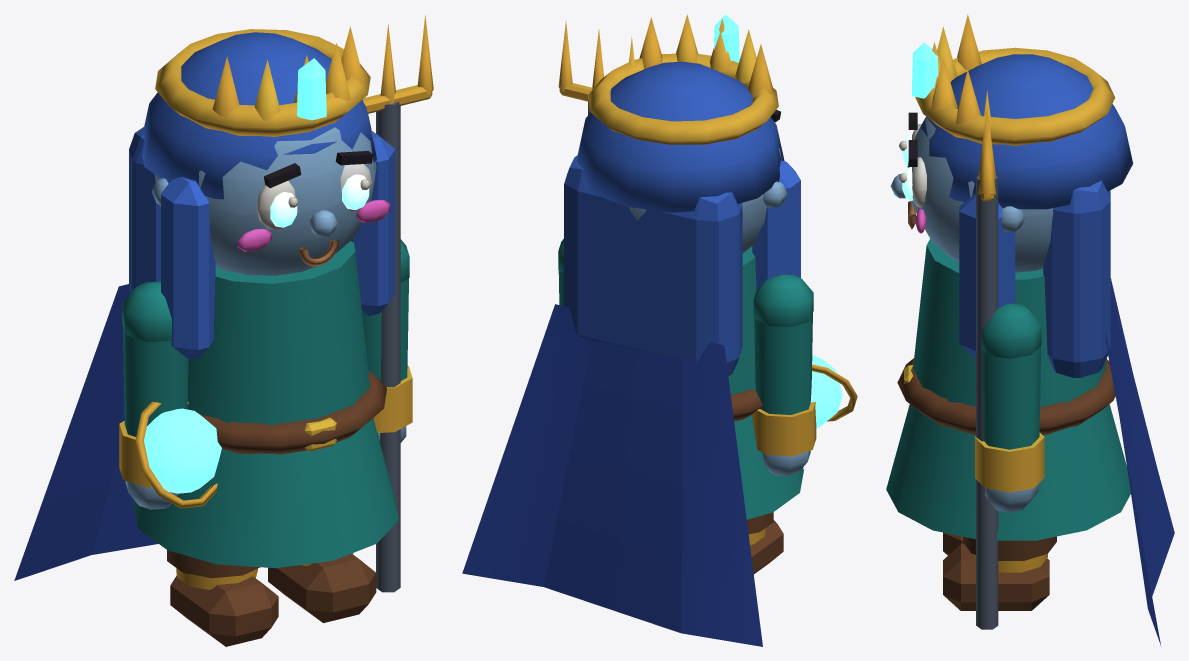
File: hero_abyss.glb
3 renders of one model, left to right at view 1: azimuth 30°, elevation 25°; view 2: azimuth 150°, elevation 25°; view 3: azimuth 270°, elevation 25°, orthographic. The views are drawn at different scales.
Visible parts, largest first — view 1: body_t0_palette, armr_t0_palette, arml_t0_palette, legl_t0_palette, arml_t0_crystal_teal, legr_t0_palette, body_t0_crystal, body_t0_glow_teal; view 2: body_t0_palette, arml_t0_palette, armr_t0_palette, legl_t0_palette, arml_t0_crystal_teal, body_t0_crystal; view 3: body_t0_palette, armr_t0_palette, legr_t0_palette, body_t0_crystal, body_t0_glow_teal.
Part boxes in pixels (box(x1,y1,x2,y2)): body_t0_palette: box(14, 26, 398, 580); armr_t0_palette: box(362, 15, 433, 592); arml_t0_palette: box(119, 281, 217, 509); legl_t0_palette: box(167, 550, 278, 646); arml_t0_crystal_teal: box(144, 408, 221, 493); legr_t0_palette: box(268, 553, 376, 622); body_t0_crystal: box(297, 58, 326, 120); body_t0_glow_teal: box(270, 174, 369, 227); body_t0_palette: box(462, 14, 803, 646); arml_t0_palette: box(752, 274, 857, 476); armr_t0_palette: box(558, 21, 634, 305); legl_t0_palette: box(747, 512, 783, 574); arml_t0_crystal_teal: box(810, 355, 842, 428); body_t0_crystal: box(714, 14, 739, 62); body_t0_palette: box(886, 14, 1174, 646); armr_t0_palette: box(975, 90, 1044, 629); legr_t0_palette: box(943, 536, 1056, 610); body_t0_crystal: box(912, 42, 938, 98); body_t0_glow_teal: box(902, 134, 913, 200).
Bounding box in the file's own units: 0.32 × 0.53 × 0.257.
